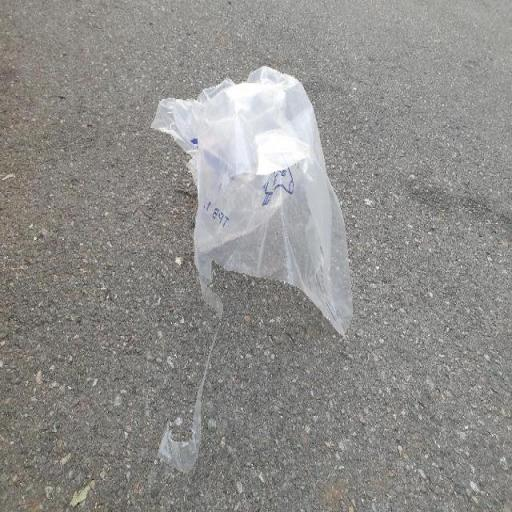plastic-bag: (148, 64, 355, 477)
